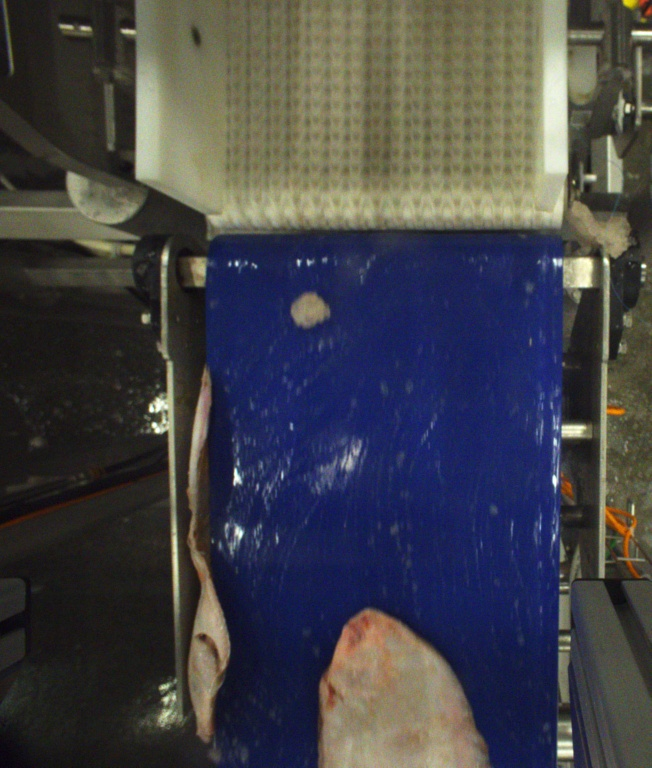SOL: (308, 606, 504, 768)
